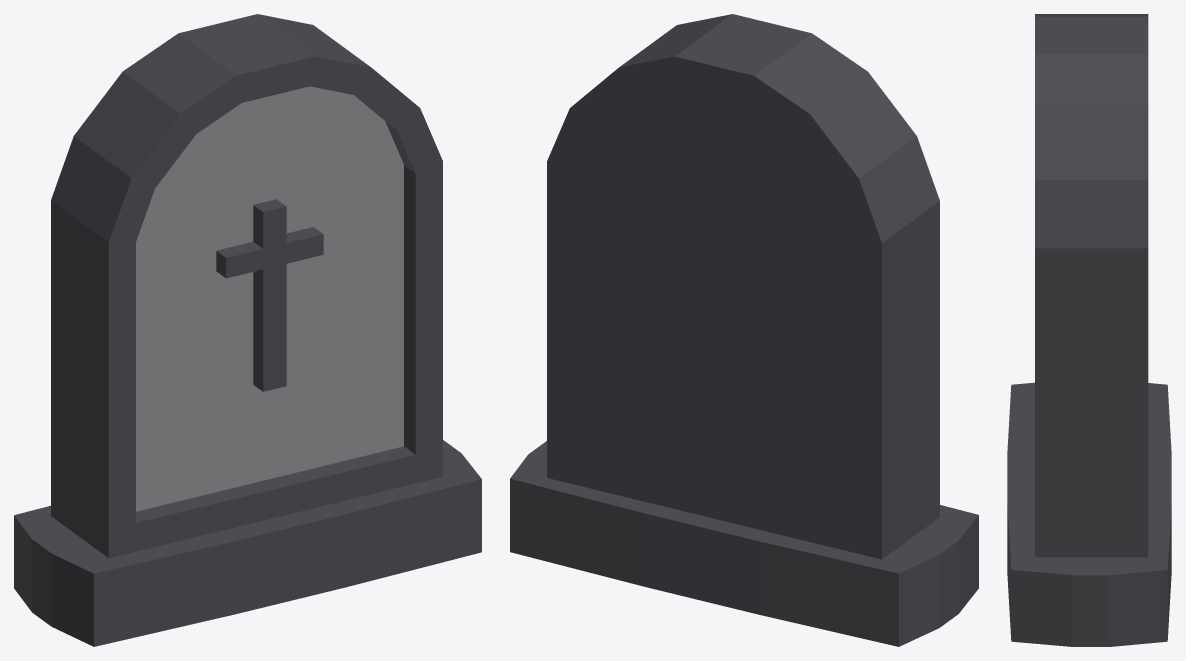
Rendered from TombStone03.glb.
3 renders of one model, left to right at view 1: azimuth 30°, elevation 25°; view 2: azimuth 150°, elevation 25°; view 3: azimuth 270°, elevation 25°, orthographic. The views are drawn at different scales.
Parts seen in each view (by area): view 1: TombStone03; view 2: TombStone03; view 3: TombStone03.
Boxes of the visible parts, left/top/right/bottom form: TombStone03: left=14, top=14, right=481, bottom=646; TombStone03: left=510, top=14, right=978, bottom=646; TombStone03: left=1007, top=14, right=1171, bottom=646.
Size of what is drawn, in the model's own units: 1.12 by 1.37 by 0.3967.
1 material, 1 textured.
